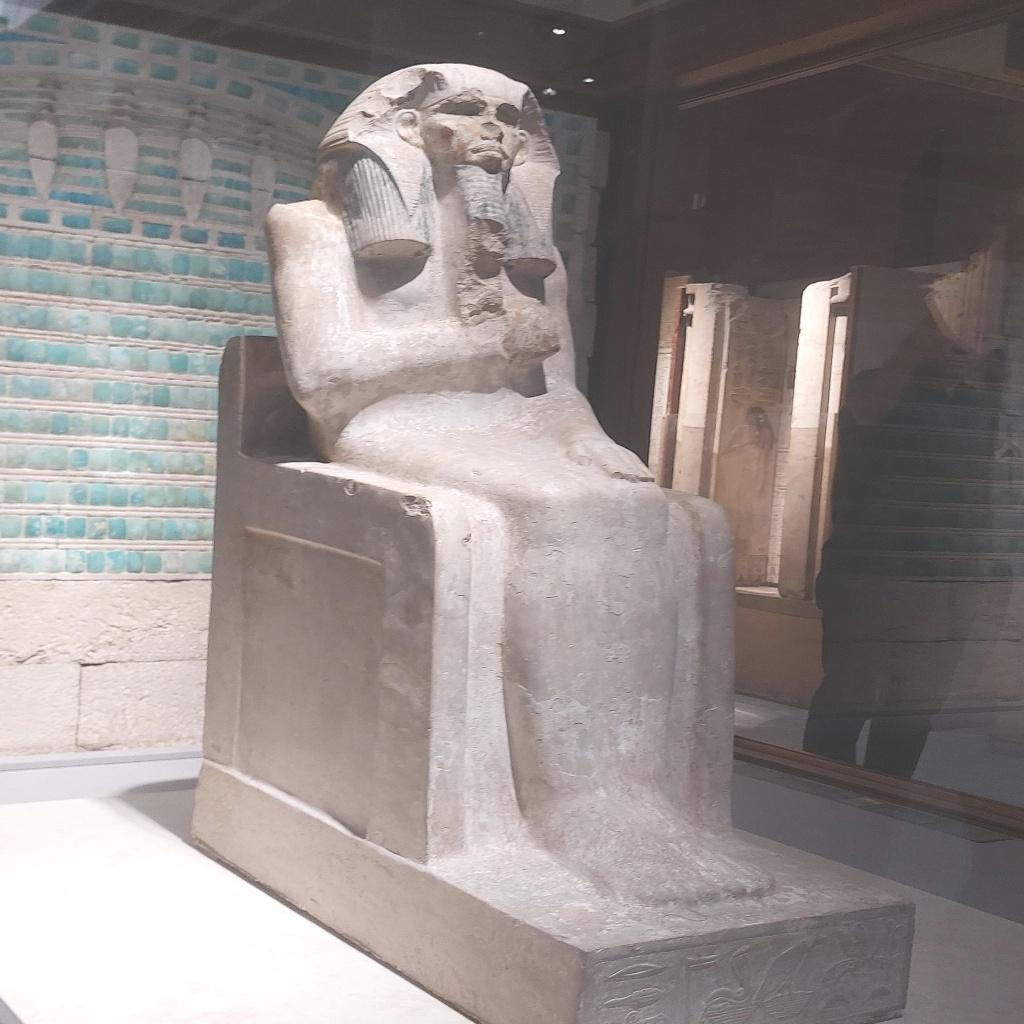Seated Statue of Djoser: (208, 58, 786, 912)
